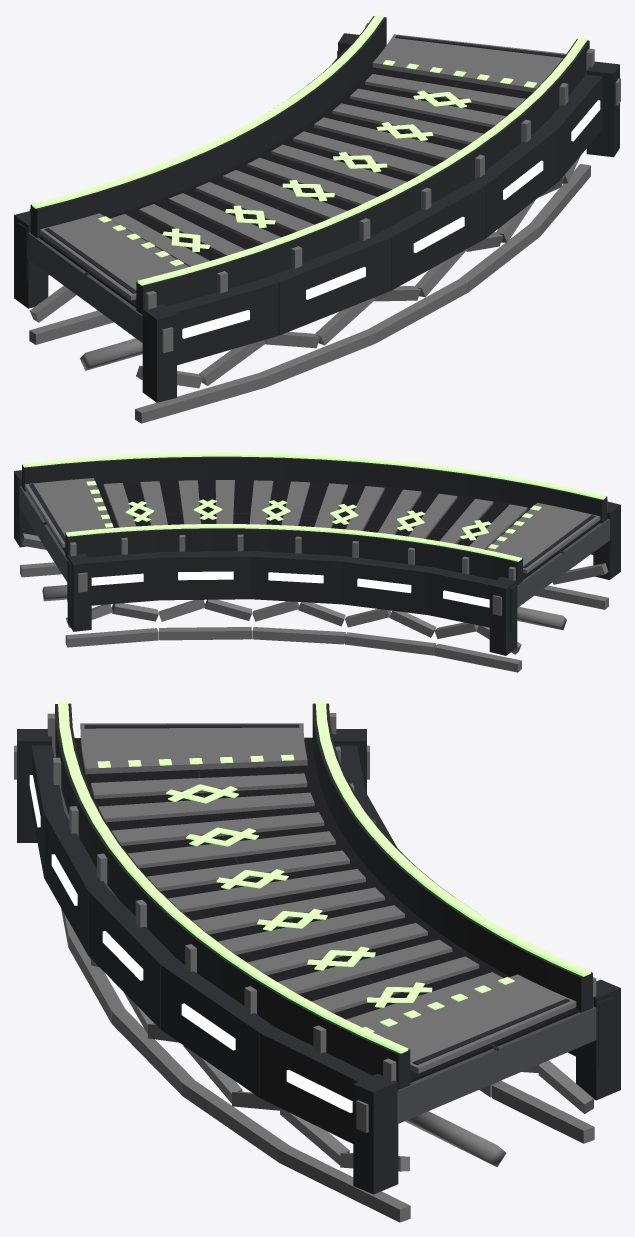
Rendered from Curve_W45_Conveyor_Belt_v4.glb.
3 renders of one model, top to bottom at view 1: azimuth 30°, elevation 25°; view 2: azimuth 150°, elevation 25°; view 3: azimuth 270°, elevation 25°, orthographic. The views are drawn at different scales.
Visible parts, largest first — view 1: Curve_W45_Conveyor_Belt_v4, Treads, TreadsRev; view 2: Curve_W45_Conveyor_Belt_v4, Treads, TreadsRev; view 3: Curve_W45_Conveyor_Belt_v4, Treads, TreadsRev.
Boxes of the visible parts, x1=… form: Curve_W45_Conveyor_Belt_v4: x1=14, y1=14, x2=620, y2=423; Treads: x1=110, y1=74, x2=525, y2=266; TreadsRev: x1=111, y1=74, x2=523, y2=266; Curve_W45_Conveyor_Belt_v4: x1=14, y1=452, x2=620, y2=672; Treads: x1=103, y1=480, x2=527, y2=549; TreadsRev: x1=103, y1=480, x2=527, y2=549; Curve_W45_Conveyor_Belt_v4: x1=14, y1=701, x2=620, y2=1222; Treads: x1=91, y1=773, x2=503, y2=1027; TreadsRev: x1=91, y1=773, x2=501, y2=1027.
Bounding box in the file's own units: 8.44 × 1.83 × 5.93.
